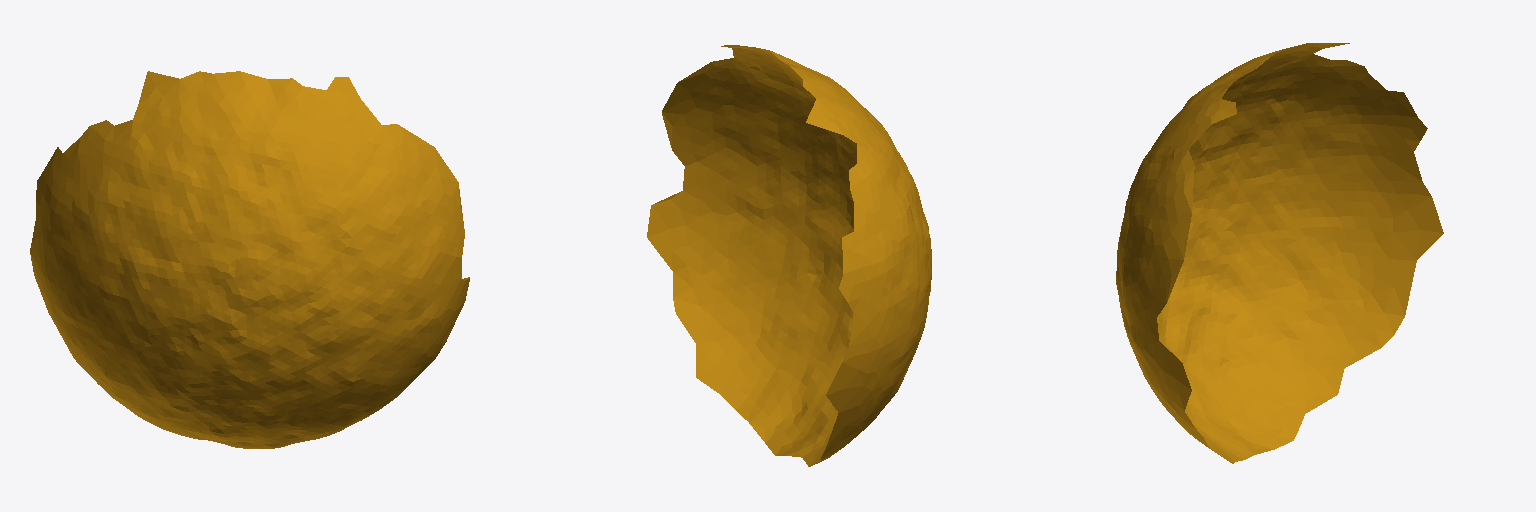
File: LargeSphere_tangential_02.000001.07.obj
The picture shows the model from 3 angles: view 1: azimuth 30°, elevation 25°; view 2: azimuth 150°, elevation 25°; view 3: azimuth 270°, elevation 25°; orthographic projection.
Visible parts, largest first — view 1: result/LargeSphere_tangential_02.000001.07; view 2: result/LargeSphere_tangential_02.000001.07; view 3: result/LargeSphere_tangential_02.000001.07.
Boxes of the visible parts, x1=… form: result/LargeSphere_tangential_02.000001.07: x1=30, y1=71, x2=469, y2=448; result/LargeSphere_tangential_02.000001.07: x1=647, y1=45, x2=931, y2=466; result/LargeSphere_tangential_02.000001.07: x1=1116, y1=43, x2=1443, y2=463.
Size of the model in its own units: 251 by 278 by 215.